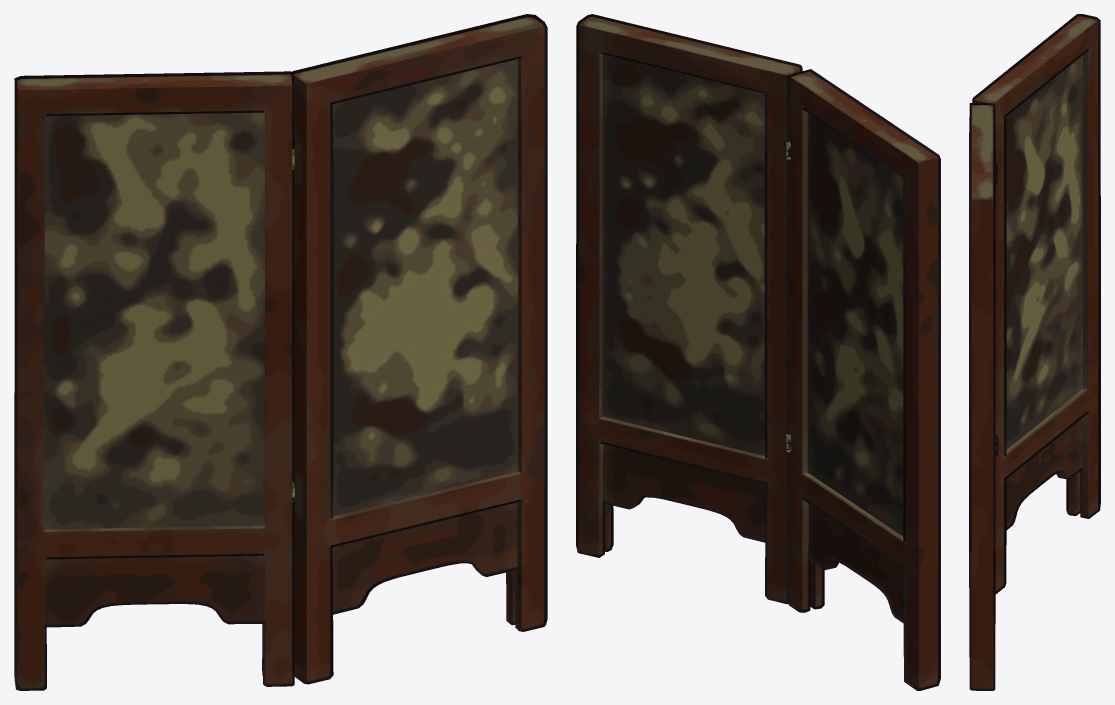
Rendered from SM_Int_FoldingScreen.fbx.
3 views of the same model, side by side, from view 1: azimuth 30°, elevation 25°; view 2: azimuth 150°, elevation 25°; view 3: azimuth 270°, elevation 25° (orthographic). The views are drawn at different scales.
Parts seen in each view (by area): view 1: SM_Int_FoldingScreen; view 2: SM_Int_FoldingScreen; view 3: SM_Int_FoldingScreen.
Part boxes in pixels (left/top/right/bottom): SM_Int_FoldingScreen: left=14, top=14, right=547, bottom=690; SM_Int_FoldingScreen: left=576, top=14, right=940, bottom=690; SM_Int_FoldingScreen: left=969, top=14, right=1100, bottom=690.
Size of what is drawn, in the model's own units: 1.31 by 1.62 by 0.3918.
